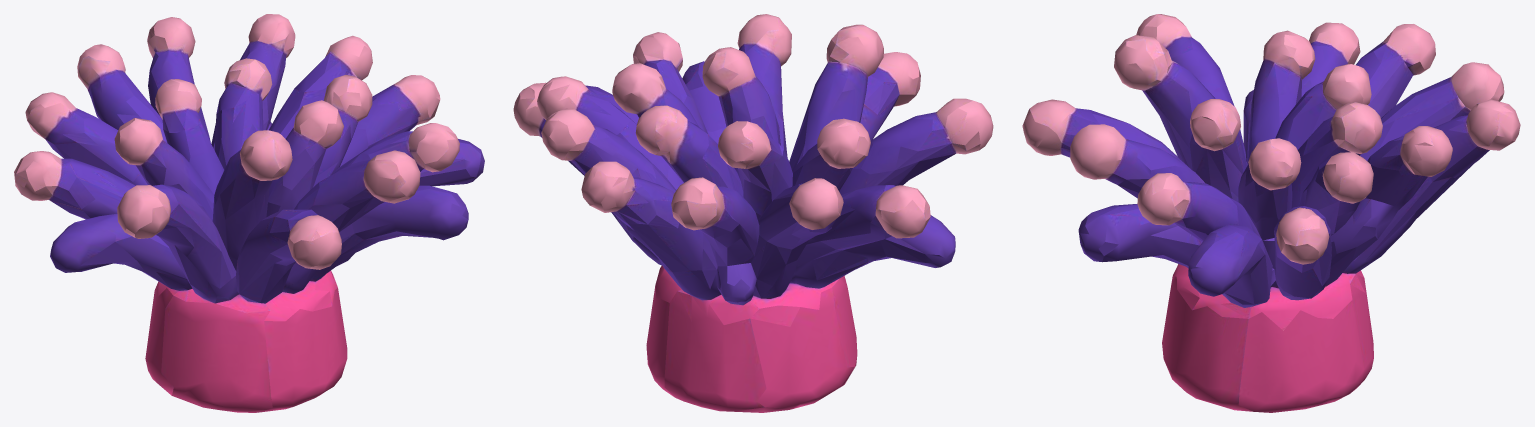
Rendered from hav-anemone.glb.
3 views of the same model, side by side, from view 1: azimuth 30°, elevation 25°; view 2: azimuth 150°, elevation 25°; view 3: azimuth 270°, elevation 25° (orthographic). The views are drawn at different scales.
Bounding box in the file's own units: 1.9 × 1.33 × 1.9.
1 material, 1 textured.
